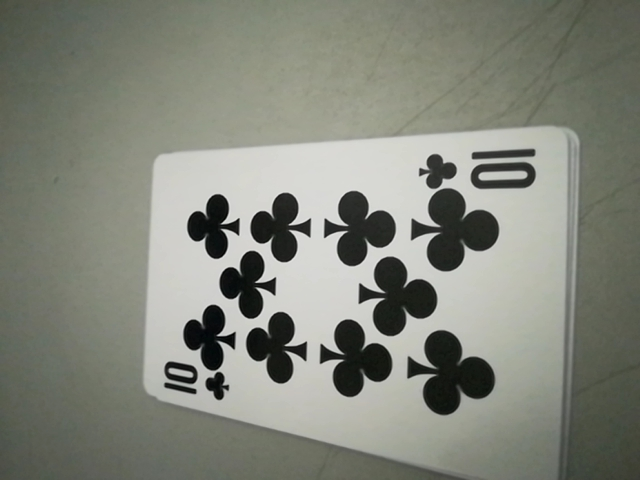mh 10: (418, 141, 549, 193), (156, 361, 232, 407)
